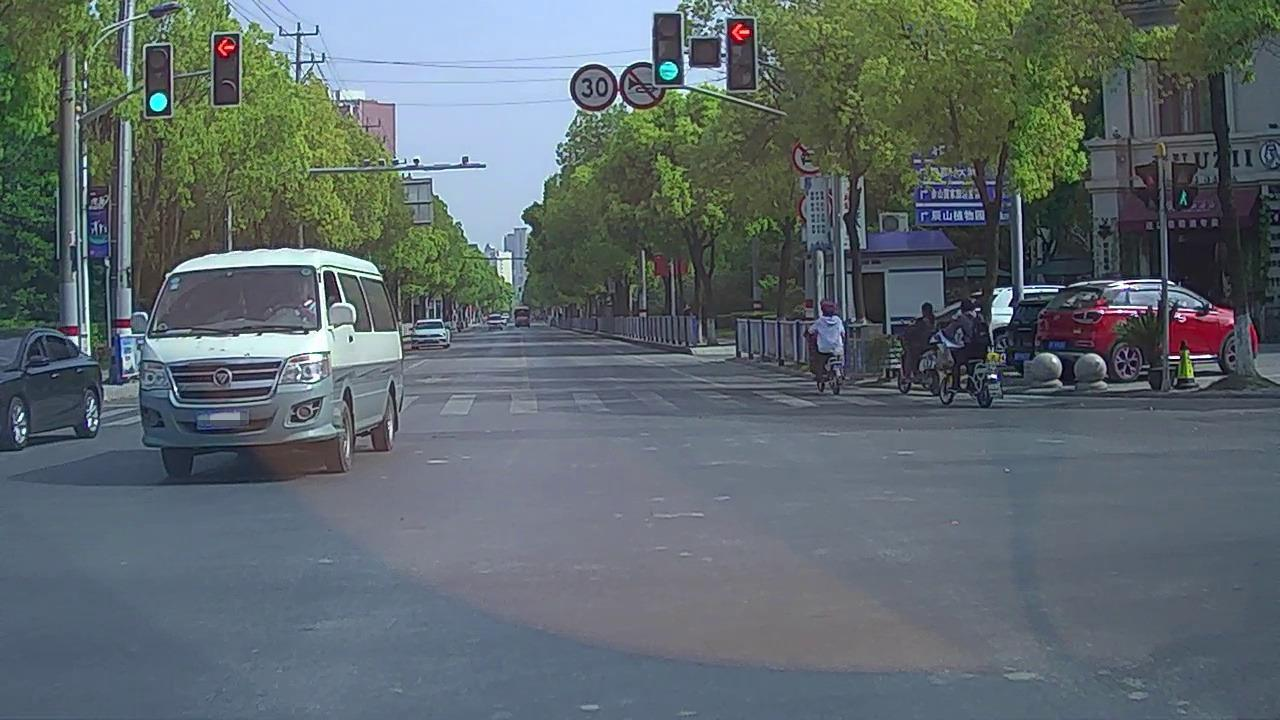traffic_light: (727, 16, 758, 92), (143, 44, 172, 116), (655, 10, 681, 85), (214, 33, 238, 105)
